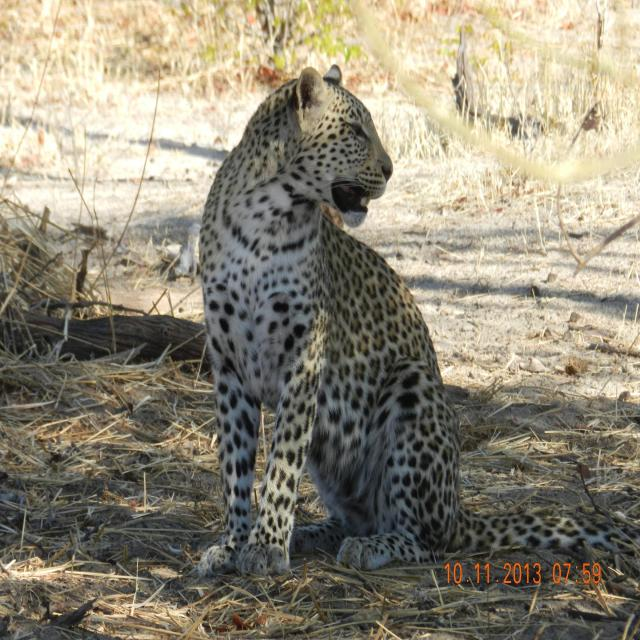Leopard: (152, 50, 568, 584)
